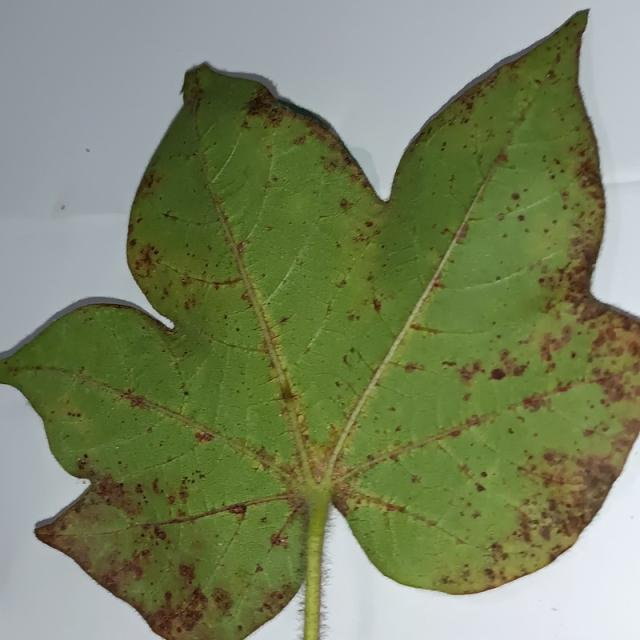Bacterial_Blight: (85, 379, 238, 446), (560, 117, 606, 294), (323, 376, 384, 473), (569, 293, 635, 376), (492, 379, 611, 424), (387, 556, 524, 595), (41, 491, 137, 541), (273, 383, 320, 483), (203, 299, 227, 459), (250, 132, 277, 253), (264, 243, 310, 314), (209, 127, 245, 192), (195, 326, 274, 355), (463, 453, 506, 500), (165, 267, 255, 289), (341, 346, 386, 389), (317, 421, 350, 476), (178, 64, 217, 101), (342, 491, 407, 512), (272, 497, 304, 539), (242, 87, 281, 120), (379, 250, 424, 278), (34, 510, 68, 541), (61, 453, 98, 478), (274, 382, 306, 405), (350, 223, 376, 245), (451, 219, 472, 245), (331, 491, 352, 515), (407, 323, 449, 335), (473, 148, 489, 178), (342, 347, 362, 368), (128, 394, 148, 409), (270, 532, 285, 548), (161, 319, 178, 333), (229, 504, 246, 515), (240, 289, 252, 302), (372, 297, 381, 311), (236, 241, 246, 253), (546, 71, 553, 78), (3, 359, 8, 366)
Cotton: (0, 10, 639, 639)
